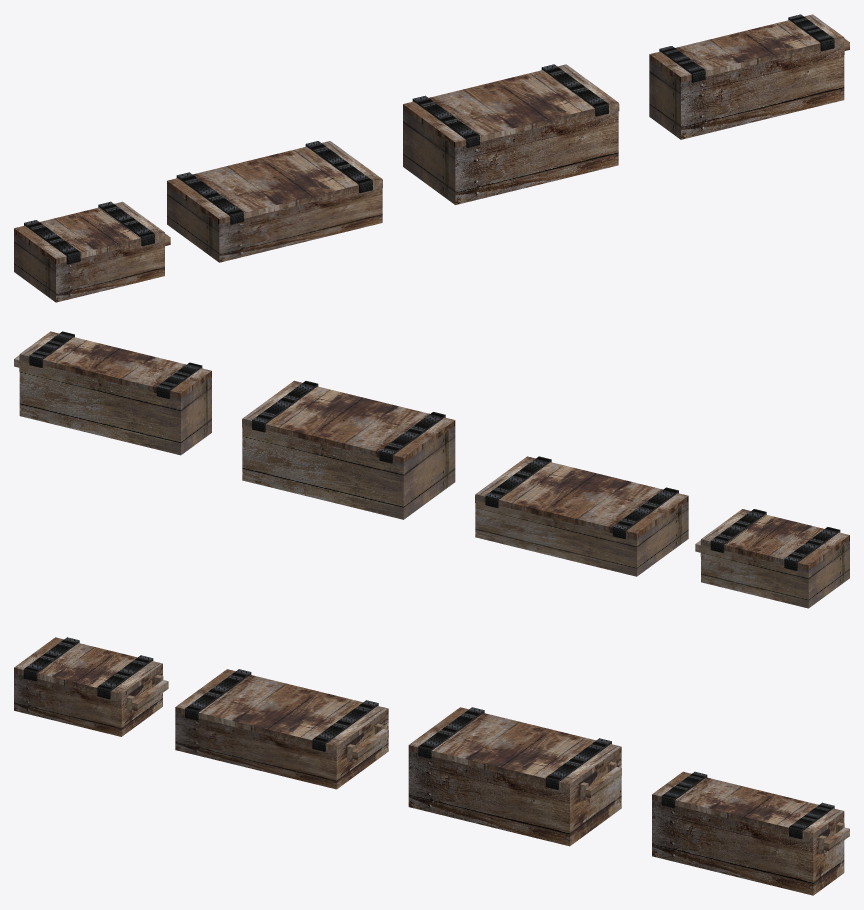
File: crates 2.fbx
The picture shows the model from 3 angles, top to bottom: view 1: azimuth 30°, elevation 25°; view 2: azimuth 150°, elevation 25°; view 3: azimuth 330°, elevation 25°; orthographic projection.
Visible parts, largest first — view 1: Cube.015, Cube.019, Cube.012, Cube.016, Cube.011, Cube.020, Cube.008, Cube.009; view 2: Cube.015, Cube.019, Cube.012, Cube.016, Cube.011, Cube.020, Cube.008, Cube.009; view 3: Cube.015, Cube.019, Cube.016, Cube.012, Cube.011, Cube.020, Cube.008, Cube.009.
Boxes of the visible parts, bbox=[...] form: Cube.015: bbox=[403, 103, 619, 204]; Cube.019: bbox=[649, 38, 849, 139]; Cube.012: bbox=[167, 141, 382, 224]; Cube.016: bbox=[403, 64, 618, 147]; Cube.011: bbox=[167, 180, 382, 262]; Cube.020: bbox=[649, 14, 844, 82]; Cube.008: bbox=[14, 233, 170, 302]; Cube.009: bbox=[14, 201, 164, 264]; Cube.015: bbox=[242, 419, 455, 519]; Cube.019: bbox=[14, 355, 211, 455]; Cube.012: bbox=[475, 456, 688, 539]; Cube.016: bbox=[242, 380, 455, 463]; Cube.011: bbox=[475, 495, 688, 576]; Cube.020: bbox=[19, 331, 211, 398]; Cube.008: bbox=[695, 540, 849, 608]; Cube.009: bbox=[701, 509, 849, 570]; Cube.015: bbox=[408, 751, 621, 846]; Cube.019: bbox=[652, 800, 849, 895]; Cube.016: bbox=[408, 707, 621, 789]; Cube.012: bbox=[175, 669, 388, 751]; Cube.011: bbox=[175, 712, 388, 789]; Cube.020: bbox=[652, 771, 844, 839]; Cube.008: bbox=[14, 669, 168, 736]; Cube.009: bbox=[14, 637, 162, 699].
Size of the model in its own units: 446 by 34 by 52.
Materials: 2 (2 with a texture image).
